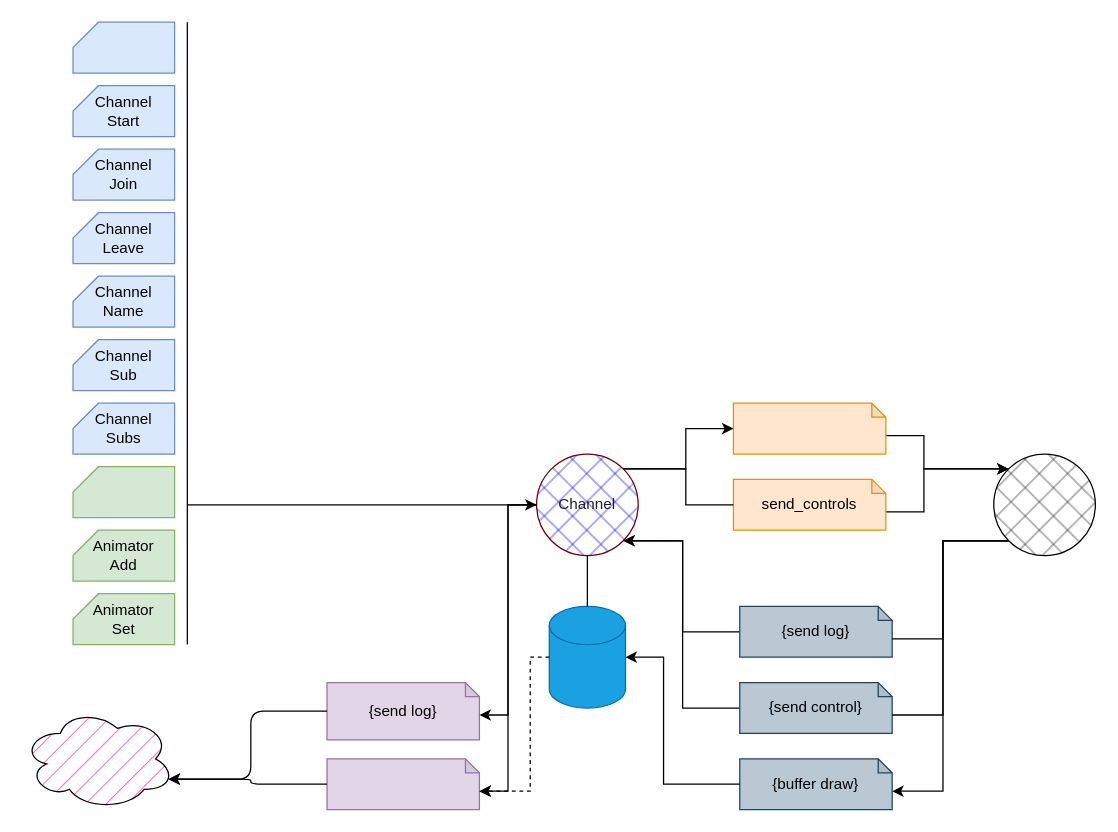
Some shapes in this 1118 by 832 pixel diagram are drawn without their labels. The shapes that lost their labels are listed below. From the top down, each one's centre as x and y in pixels, then its label:
[123,47]: Channel List
[809,428]: {set, Field, Value}
[123,491]: Animator List
[1044,504]: animator
[586,656]: buffer
[98,758]: Web Socket
[402,784]: {send draw}
